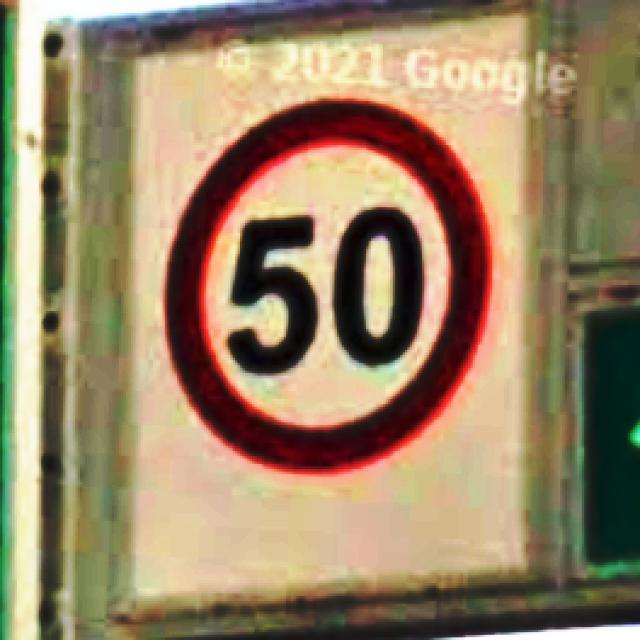max50: (162, 93, 494, 474)
